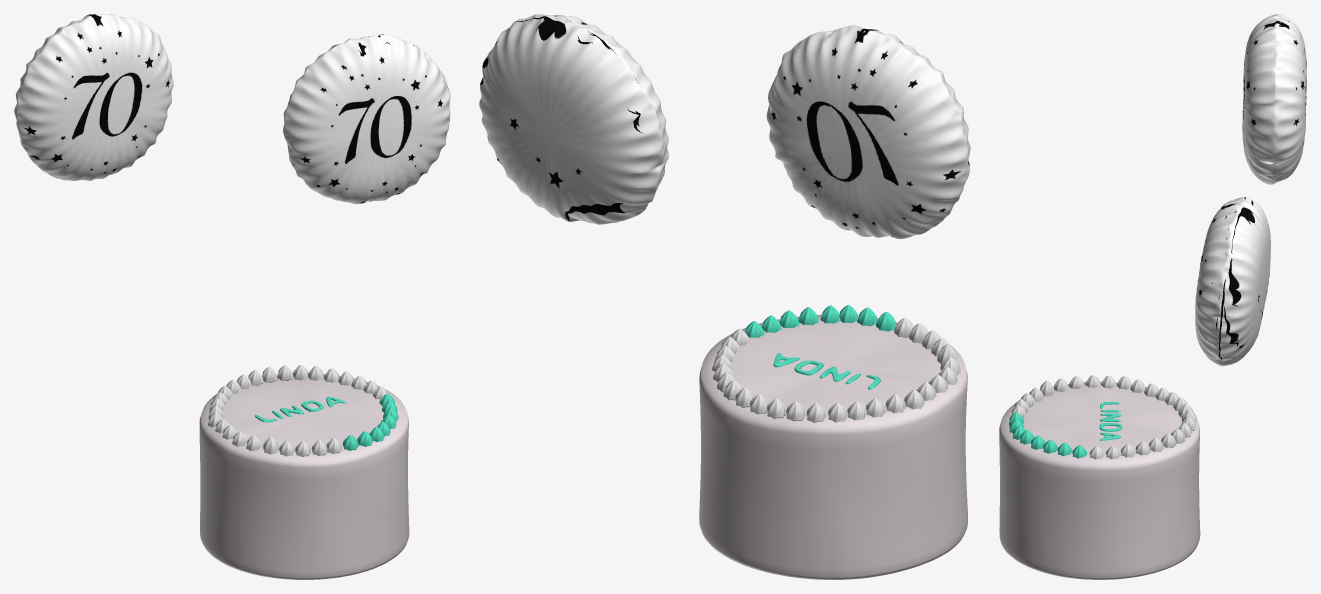
The model's file is blocked_in_animation4_nosprinkles.fbx.
3 views of the same model, side by side, from view 1: azimuth 30°, elevation 25°; view 2: azimuth 150°, elevation 25°; view 3: azimuth 270°, elevation 25° (orthographic). The views are drawn at different scales.
Parts seen in each view (by area): view 1: linda_cake, balloon2, balloon1, Text001; view 2: linda_cake, balloon1, balloon2, Text001; view 3: linda_cake, balloon2, balloon1, Text001.
Boxes of the visible parts, x1,y1,x2,y2 form: linda_cake: (199,374,409,579); balloon2: (283,34,450,204); balloon1: (14,14,173,180); Text001: (255,396,345,422); linda_cake: (699,314,967,579); balloon1: (766,25,970,238); balloon2: (479,14,668,224); Text001: (773,353,880,389); linda_cake: (999,381,1200,579); balloon2: (1195,197,1270,366); balloon1: (1242,14,1306,184); Text001: (1099,401,1121,440).
Bounding box in the file's own units: 155 × 177 × 107.
